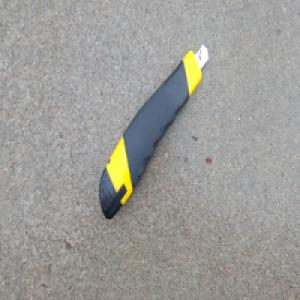Cutter: (97, 42, 210, 221)
